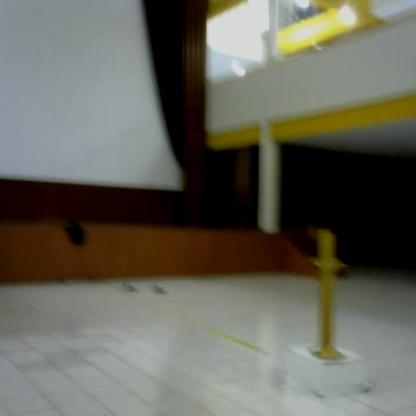pole: (306, 224, 357, 365)
